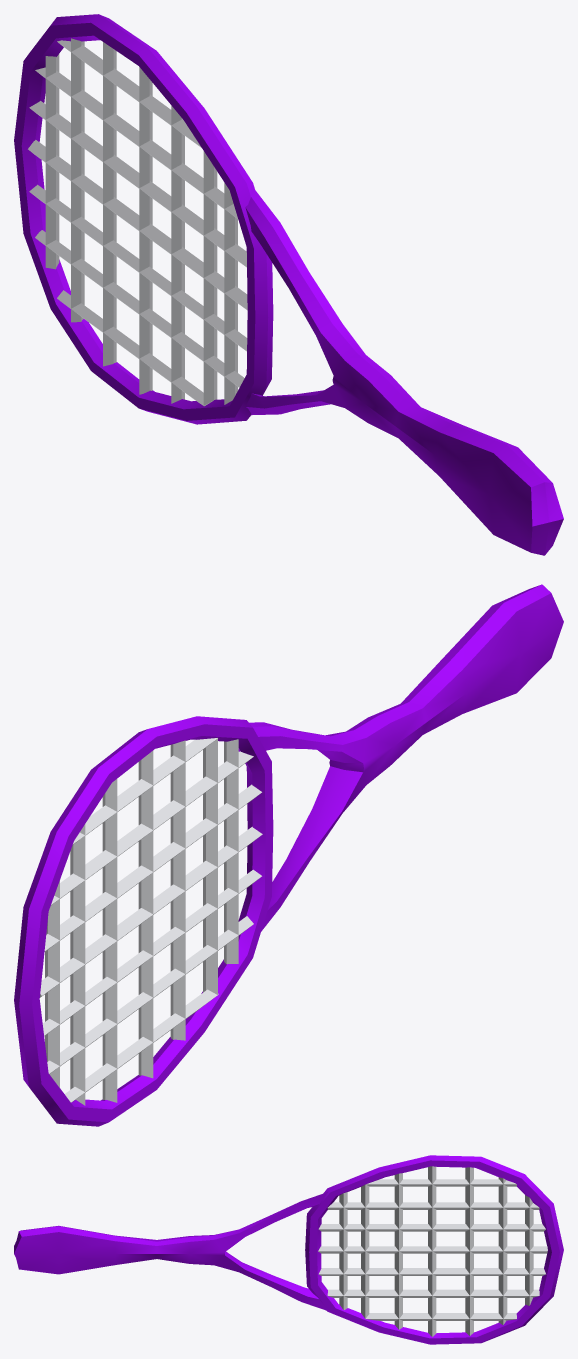
File: Sword_03.fbx
3 views of the same model, one above another, from view 1: azimuth 30°, elevation 25°; view 2: azimuth 150°, elevation 25°; view 3: azimuth 270°, elevation 25° (orthographic). The views are drawn at different scales.
Visible parts, largest first — view 1: Sword_03; view 2: Sword_03; view 3: Sword_03.
Part boxes in pixels (<box>): Sword_03: <box>14,14,563,555</box>; Sword_03: <box>14,584,563,1126</box>; Sword_03: <box>14,1155,563,1344</box>.
Size of the model in its own units: 15.43 by 170 by 448.
